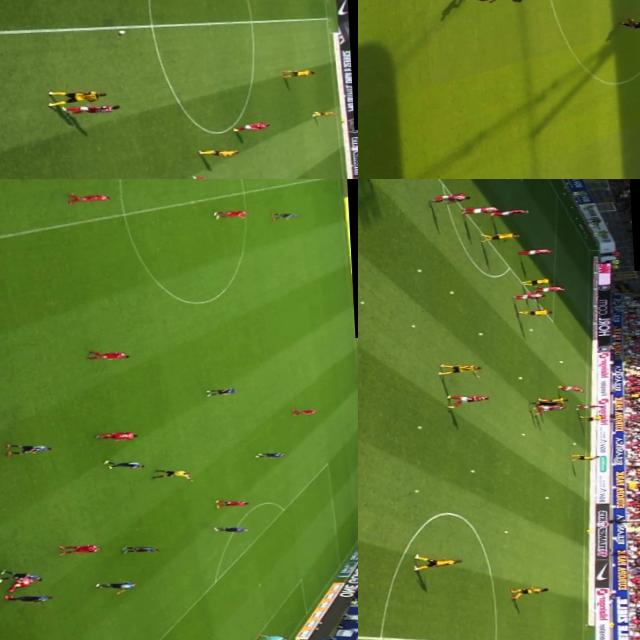ball: (114, 27, 131, 35), (12, 582, 22, 586), (476, 332, 484, 336), (410, 322, 416, 327), (470, 468, 477, 472), (502, 529, 510, 532), (544, 495, 550, 499), (570, 440, 576, 444), (520, 431, 526, 435), (413, 488, 419, 492), (414, 269, 422, 272), (557, 359, 565, 362), (450, 289, 456, 292), (528, 327, 534, 330), (518, 374, 522, 378), (360, 300, 365, 303), (418, 425, 422, 428)
player: (81, 346, 133, 362), (63, 188, 114, 204), (439, 391, 492, 406), (437, 361, 481, 378), (91, 428, 141, 442), (0, 567, 45, 582), (52, 90, 108, 102), (64, 103, 122, 114), (249, 448, 286, 464), (102, 458, 144, 472), (6, 592, 52, 604), (206, 523, 248, 536), (93, 580, 137, 592), (7, 576, 38, 592), (59, 544, 99, 556), (210, 499, 250, 511), (233, 120, 272, 132), (209, 208, 248, 220), (199, 147, 243, 157), (284, 407, 325, 417), (124, 544, 158, 556), (533, 392, 567, 404), (458, 0, 525, 6), (529, 403, 565, 414), (284, 66, 318, 77), (463, 204, 500, 214), (516, 306, 552, 316), (619, 14, 640, 31), (492, 207, 530, 216), (205, 386, 237, 396), (568, 450, 599, 460), (427, 195, 471, 202), (193, 172, 235, 179), (530, 284, 566, 292), (520, 246, 552, 255), (484, 232, 520, 240), (556, 382, 584, 392), (273, 210, 299, 219), (510, 175, 566, 179), (575, 402, 606, 409), (258, 632, 285, 640), (512, 292, 546, 298), (522, 278, 554, 284), (578, 413, 604, 420), (312, 110, 339, 116)
